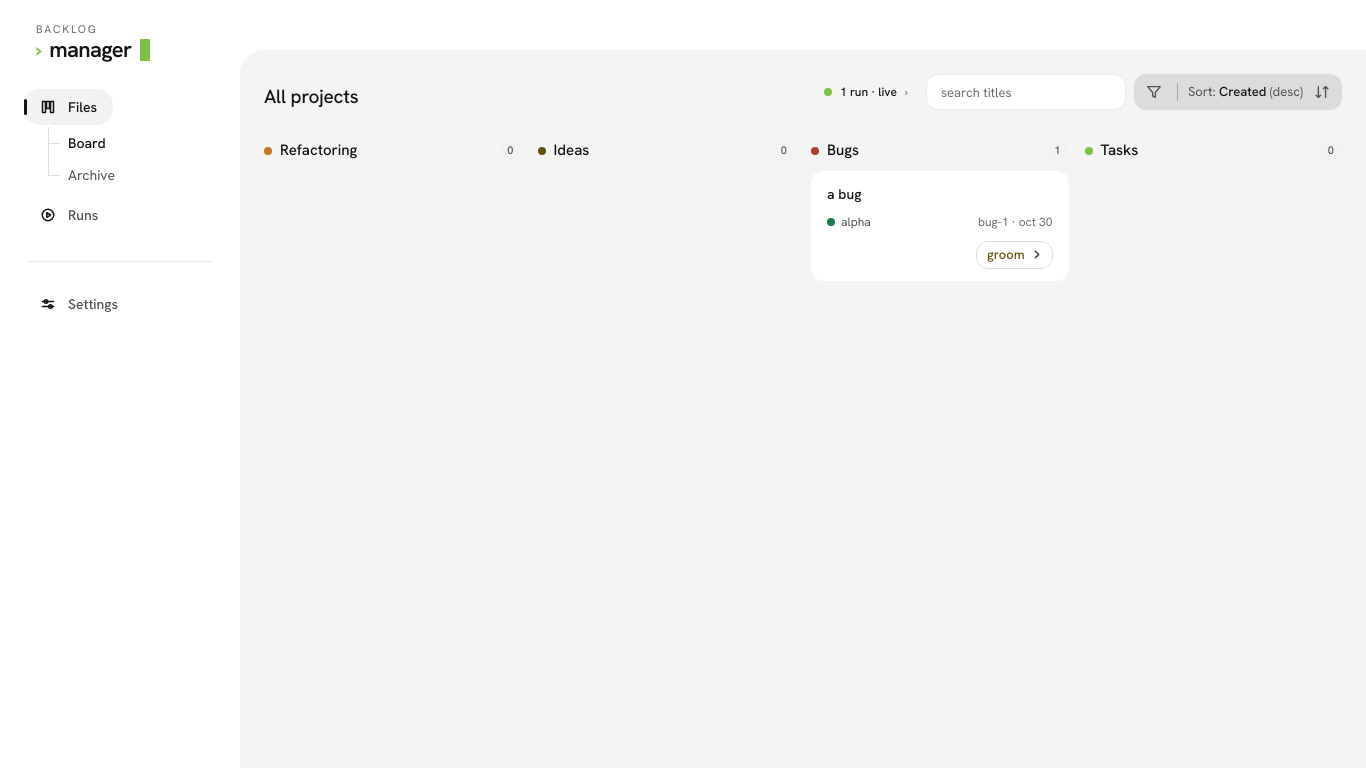
Test case: BoardView: the run chip › opens the Runs section, the same way the rail does
Click the button with test id "run-chip" at x=866, y=92, box [814,76,918,108]
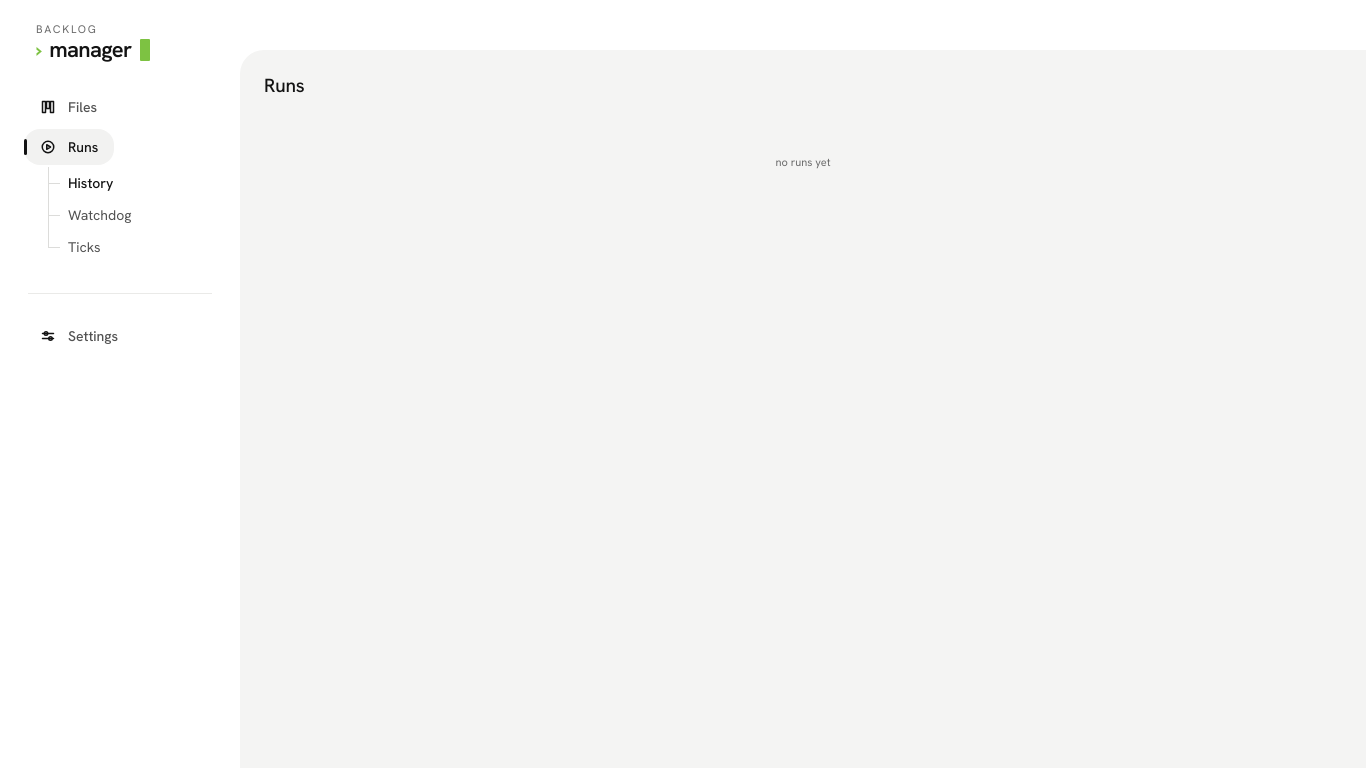
Now the text "Bugs" is gone
